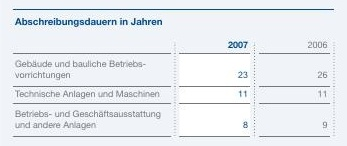table: (0, 0, 347, 146)
